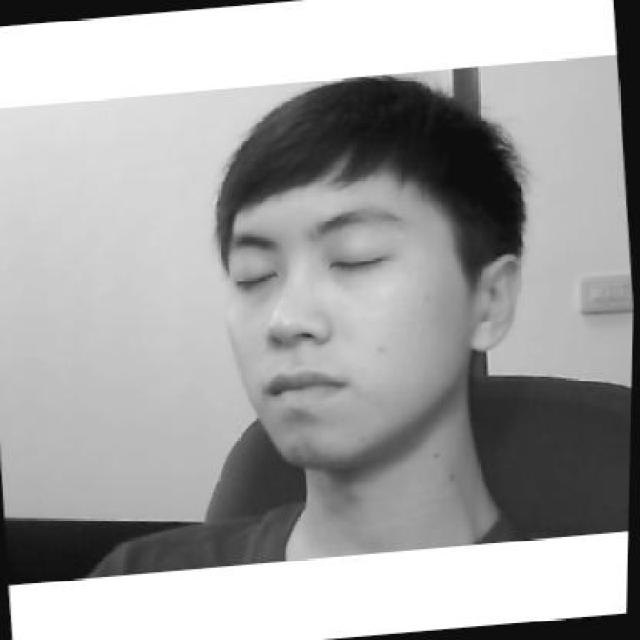inattentif: (199, 64, 544, 476)
